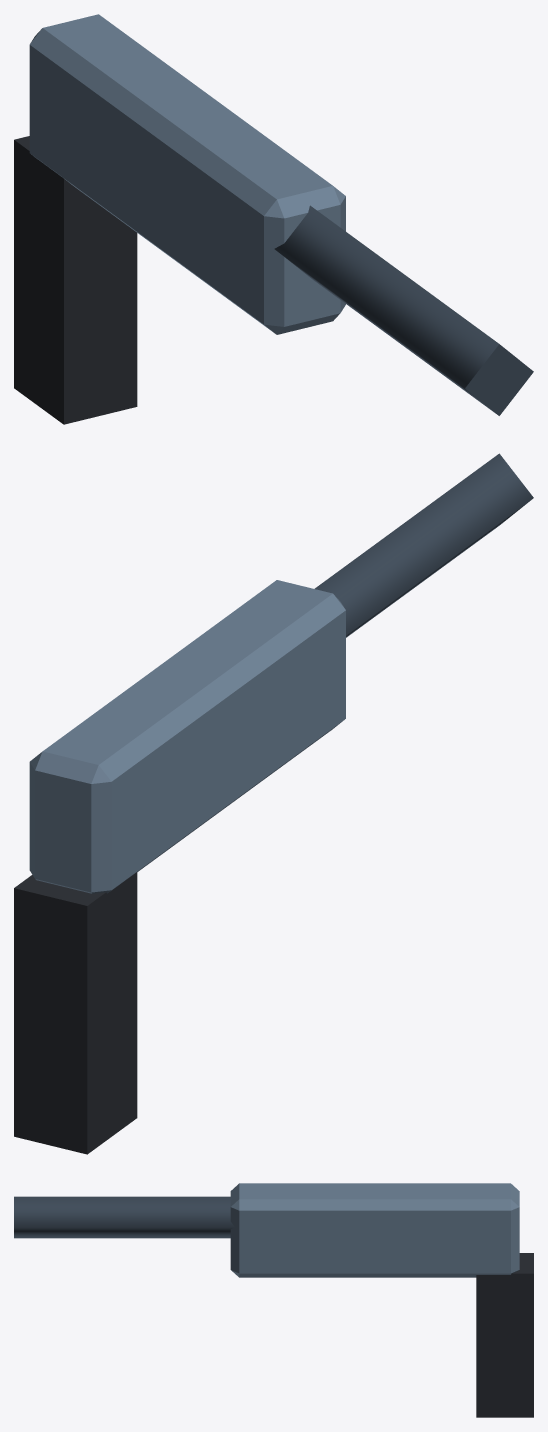
3 renders of one model, top to bottom at view 1: azimuth 30°, elevation 25°; view 2: azimuth 150°, elevation 25°; view 3: azimuth 270°, elevation 25°, orthographic. The views are drawn at different scales.
Visible parts, largest first — view 1: dweller_weapon_pipe_pistol; view 2: dweller_weapon_pipe_pistol; view 3: dweller_weapon_pipe_pistol.
Part boxes in pixels (bbox=[...]): dweller_weapon_pipe_pistol: bbox=[14, 14, 533, 424]; dweller_weapon_pipe_pistol: bbox=[14, 453, 533, 1154]; dweller_weapon_pipe_pistol: bbox=[14, 1183, 533, 1417].
Bounding box in the file's own units: 0.038 × 0.165 × 0.36.
